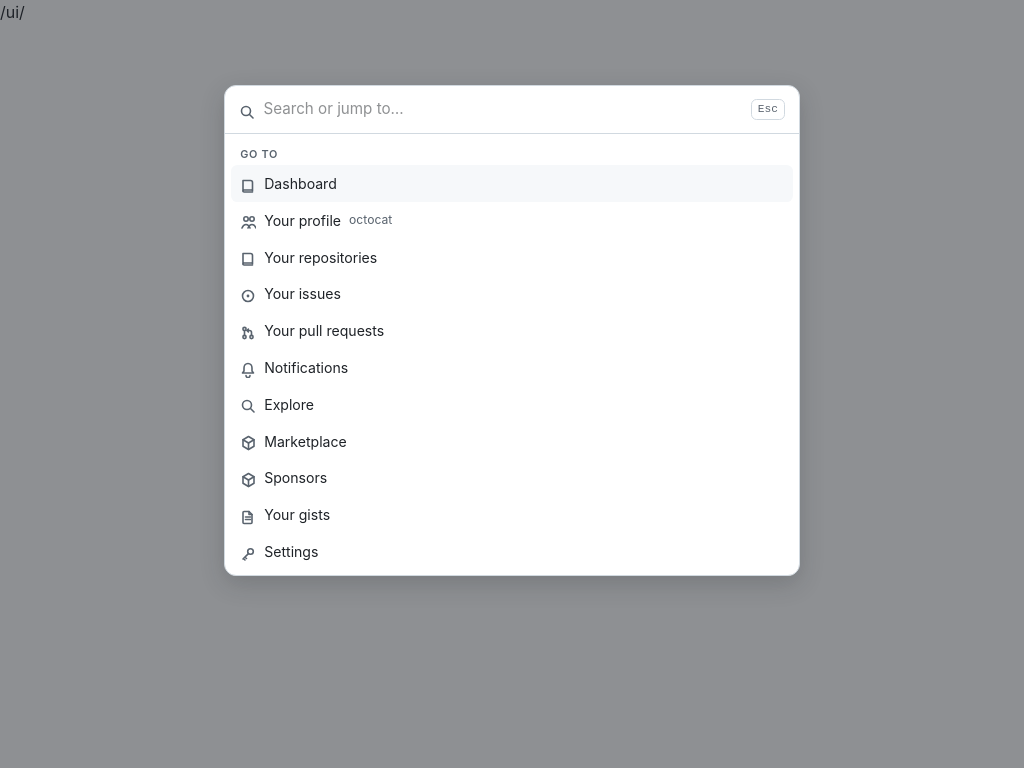
Test: CommandPalette › navigates to the active static target on Enter
Type "notif" into the dropdown at (503, 110), box [263,98,743,121]
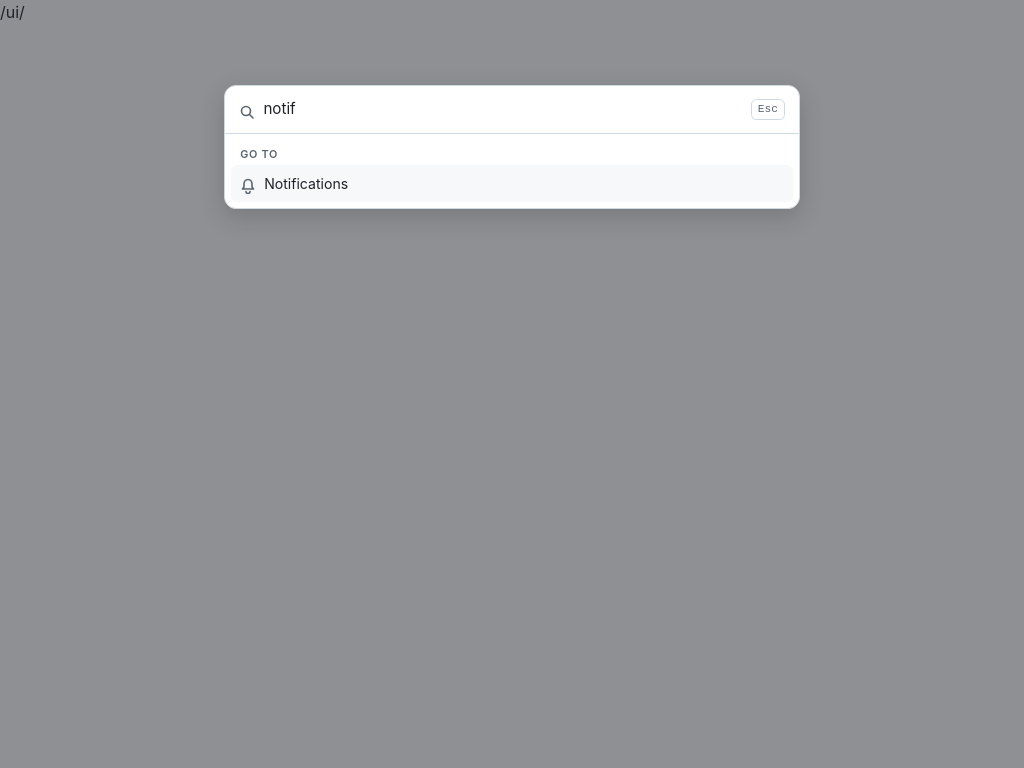
Now the option "Dashboard" is gone
Press Enter in the dropdown, box [263,98,743,121]
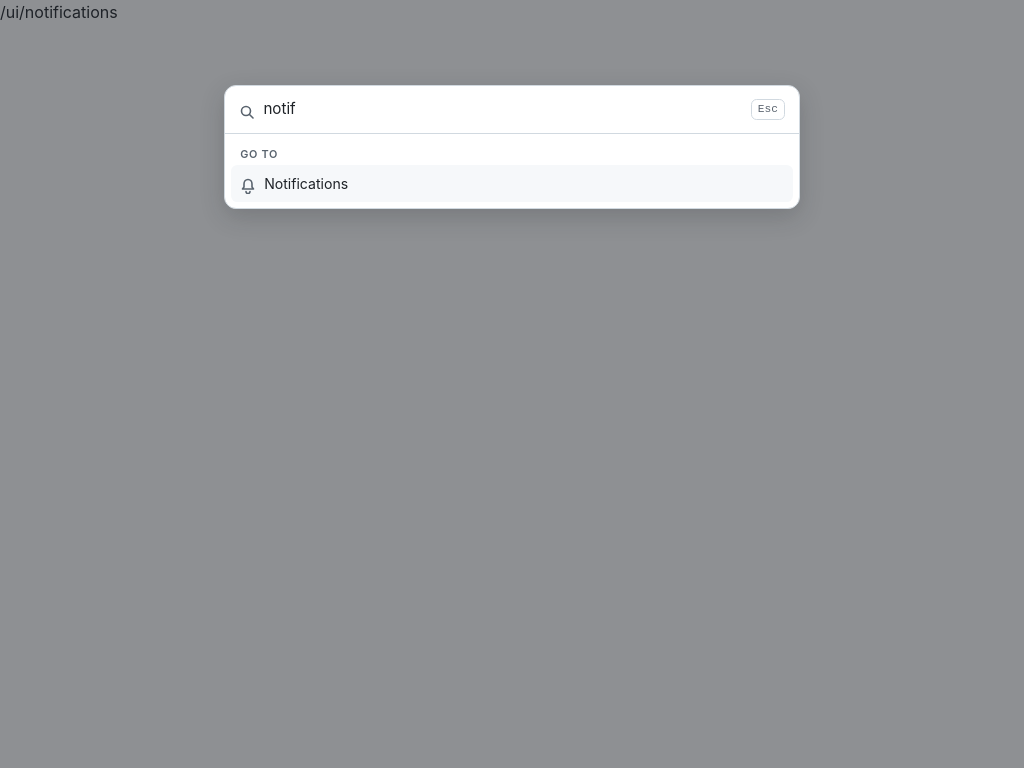
Now the text with test id "loc" reads "/ui/notifications", box [0,2,118,22]
